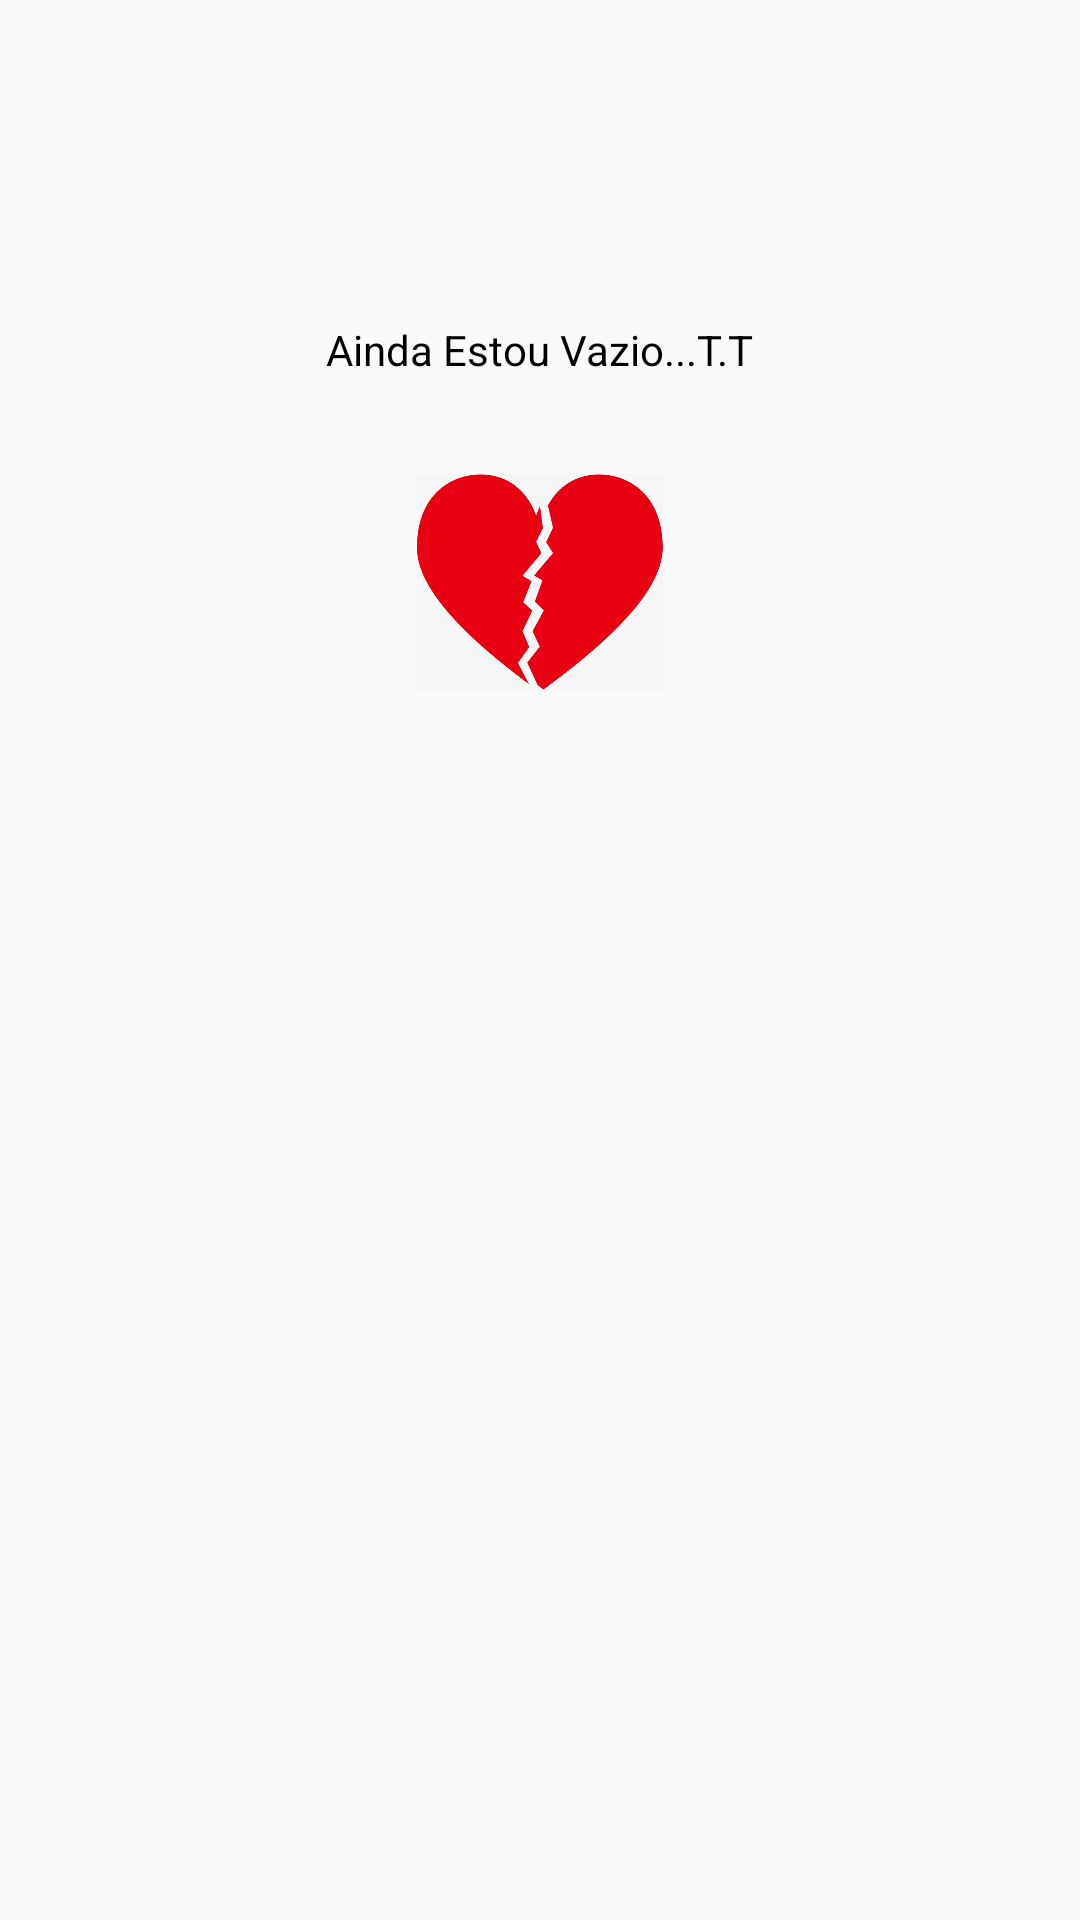

Named icons in this screenshot (1080px x 1920px) and their centers, [x,y]:
broken heart: [540,582]
